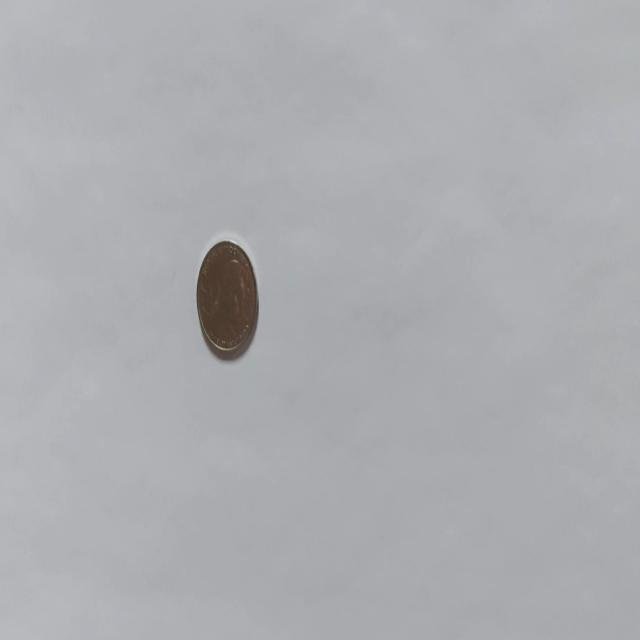seribu rupiah koin: (194, 235, 260, 358)
